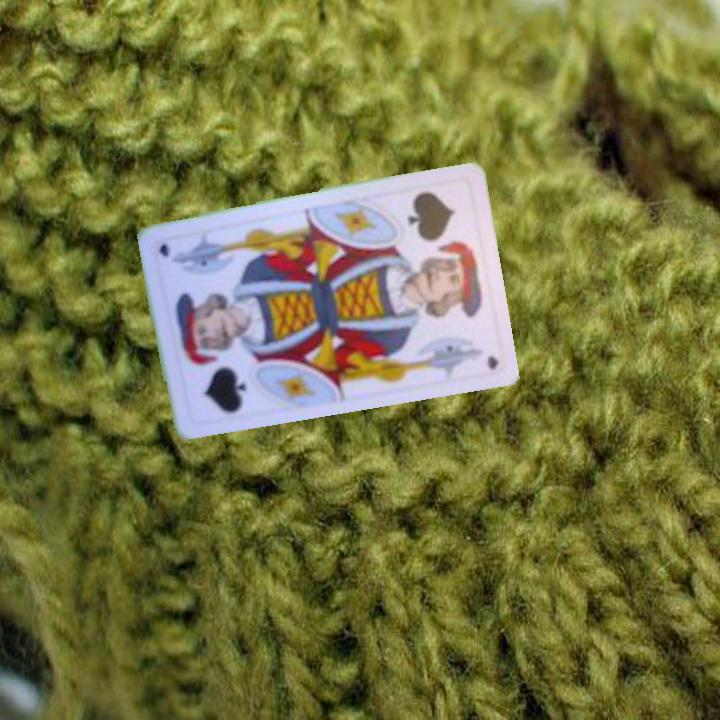s_j.png: (169, 311, 269, 423), (386, 179, 486, 291)
